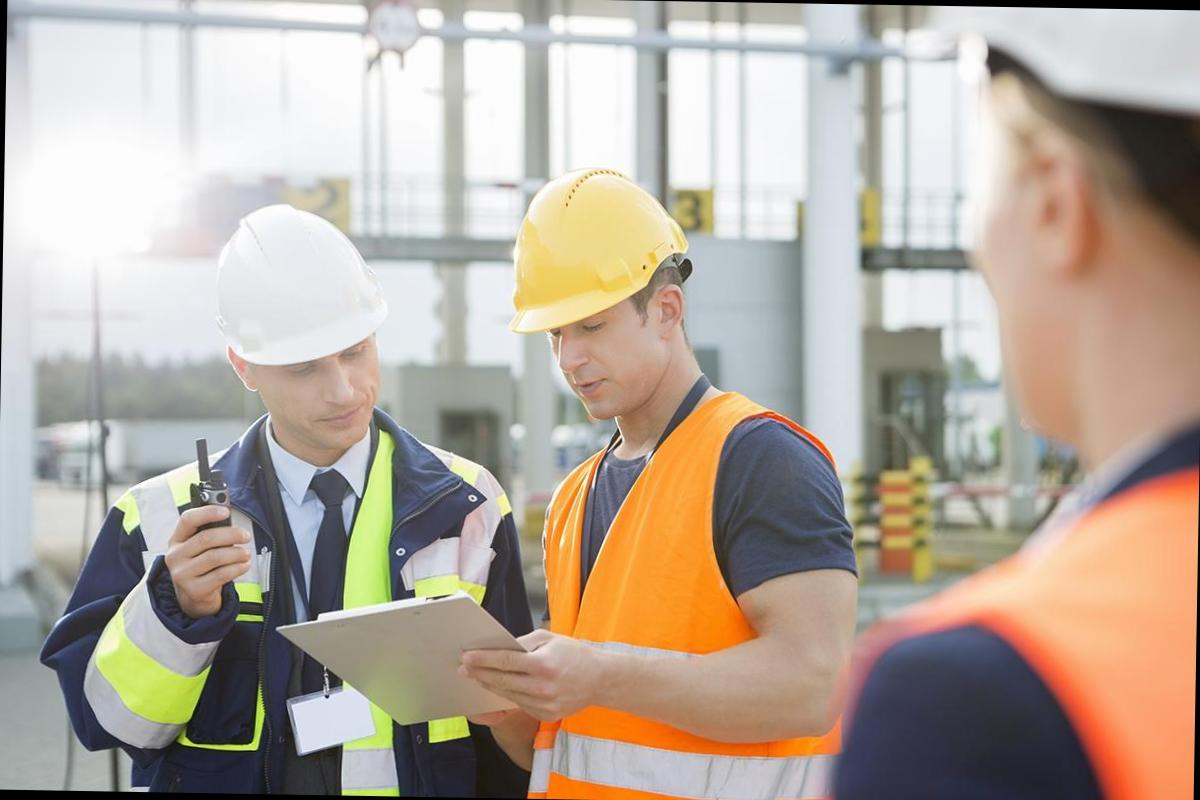Helmet: (935, 9, 1200, 178), (199, 209, 419, 391), (496, 174, 702, 354)
Vest: (514, 403, 888, 800), (98, 488, 522, 785), (932, 453, 1199, 800)
